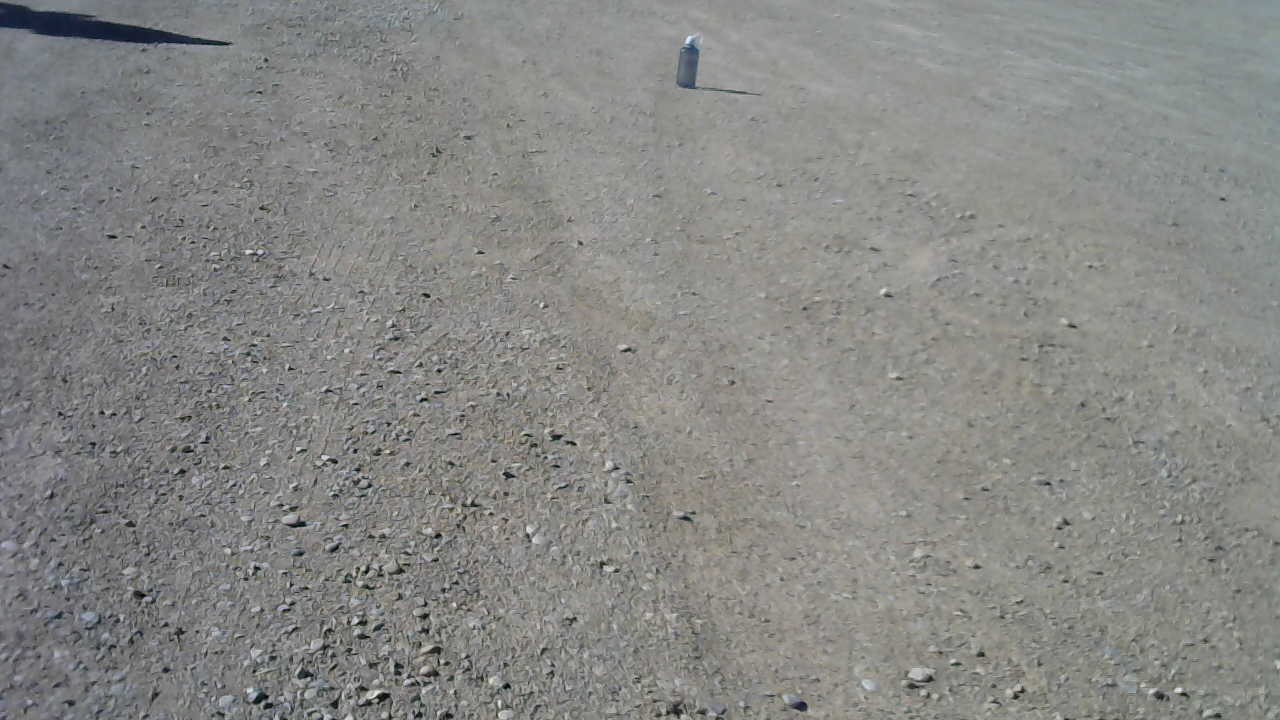bottle: (665, 31, 707, 91)
